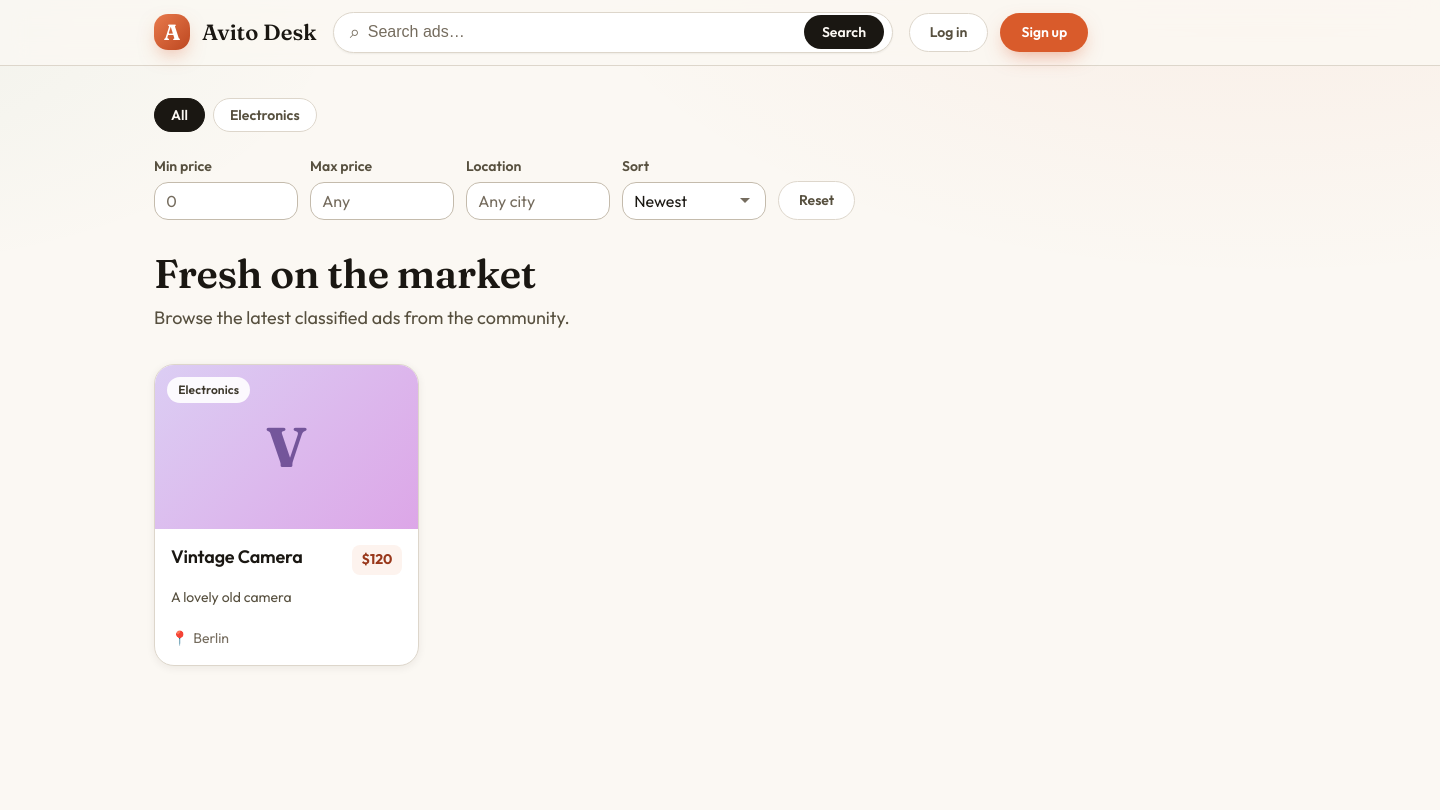
Test: register form shows a validation error when fields are empty
Click the button "Sign up".
click(1044, 32)  # box top-left (1000, 13), bottom-right (1088, 52)
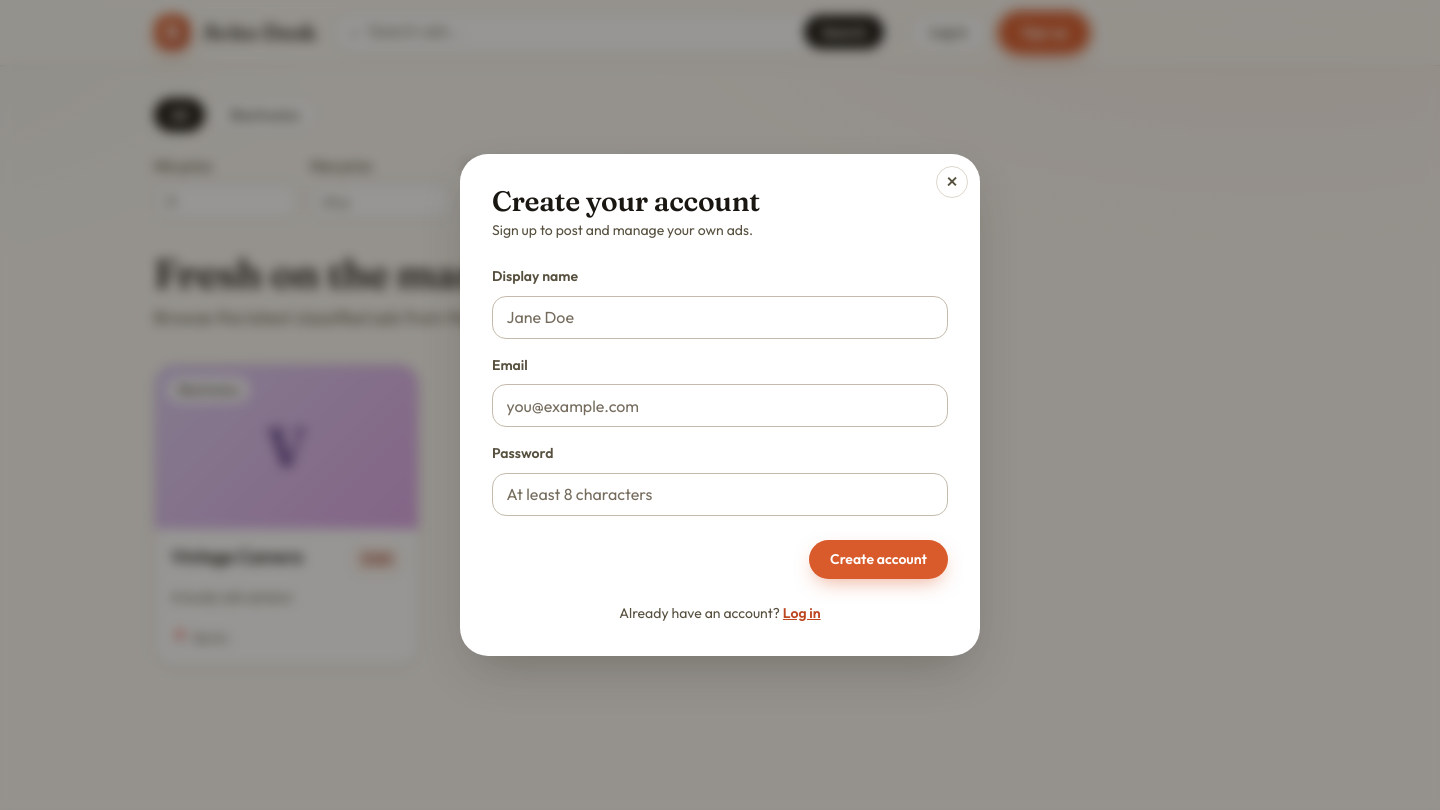
Click the button "Create account".
click(879, 559)  # box top-left (809, 540), bottom-right (948, 579)
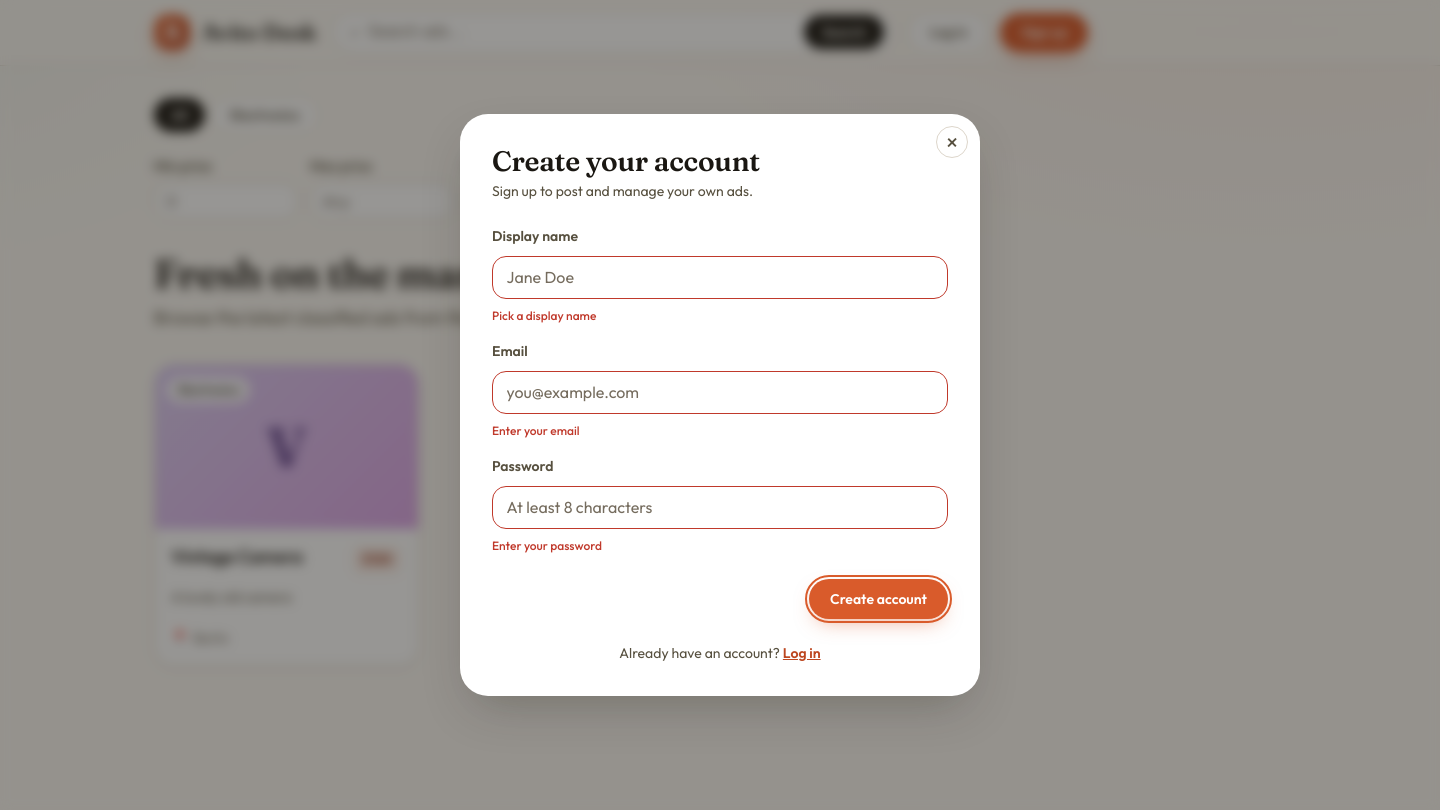
Now the text "Pick a display name" is shown, box top-left (492, 308), bottom-right (596, 323)
Now the text "Enter your email" is shown, box top-left (492, 423), bottom-right (580, 438)
